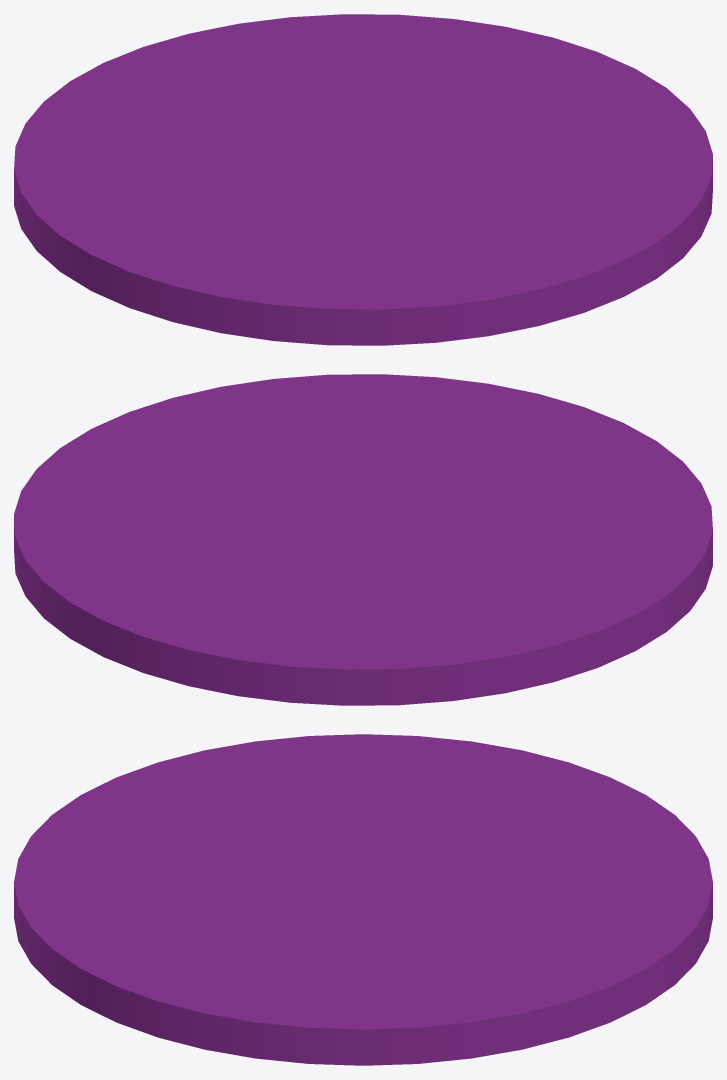
File: pad-3b0a45.glb
The picture shows the model from 3 angles, top to bottom: view 1: azimuth 30°, elevation 25°; view 2: azimuth 150°, elevation 25°; view 3: azimuth 270°, elevation 25°; orthographic projection.
Parts seen in each view (by area): view 1: plat; view 2: plat; view 3: plat.
Part boxes in pixels (<box>): plat: <box>14,14,712,345</box>; plat: <box>14,374,712,705</box>; plat: <box>14,734,712,1065</box>.
Size of the model in its own units: 1.4 by 0.08 by 1.4.
Materials: 1 (1 with a texture image).
